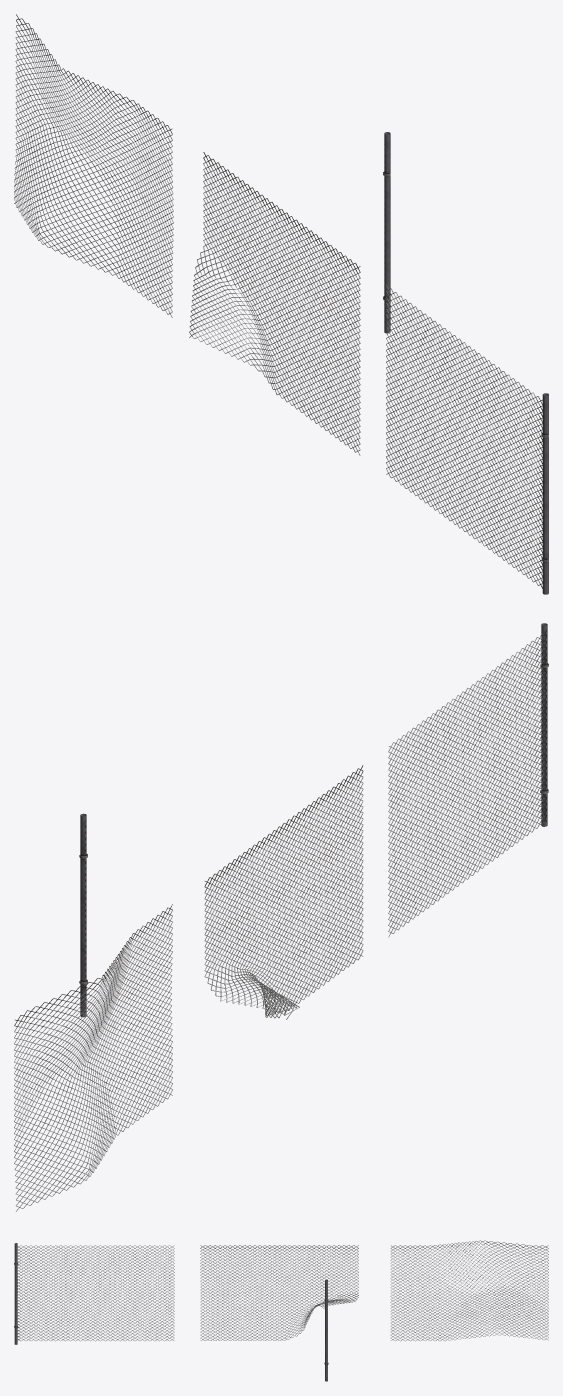
File: fence_protective_fence_metallic_avenue_farm.glb
The picture shows the model from 3 angles, top to bottom: view 1: azimuth 30°, elevation 25°; view 2: azimuth 150°, elevation 25°; view 3: azimuth 270°, elevation 25°; orthographic projection. The views are drawn at different scales.
Visible parts, largest first — view 1: Object_2, Object_5, Object_4, Object_3; view 2: Object_2, Object_4, Object_5, Object_3; view 3: Object_2, Object_4, Object_5, Object_3.
Boxes of the visible parts, x1,y1,x2,y2 form: Object_2: (386,285,548,594); Object_5: (189,152,360,455); Object_4: (14,14,173,317); Object_3: (383,132,390,333); Object_2: (388,623,548,937); Object_4: (14,904,172,1211); Object_5: (204,765,363,1019); Object_3: (79,813,87,1017); Object_2: (14,1243,174,1344); Object_4: (390,1240,548,1341); Object_5: (200,1245,358,1340); Object_3: (324,1279,328,1381).
Size of the model in its own units: 228 by 210 by 1013.
1 material, 1 textured.
